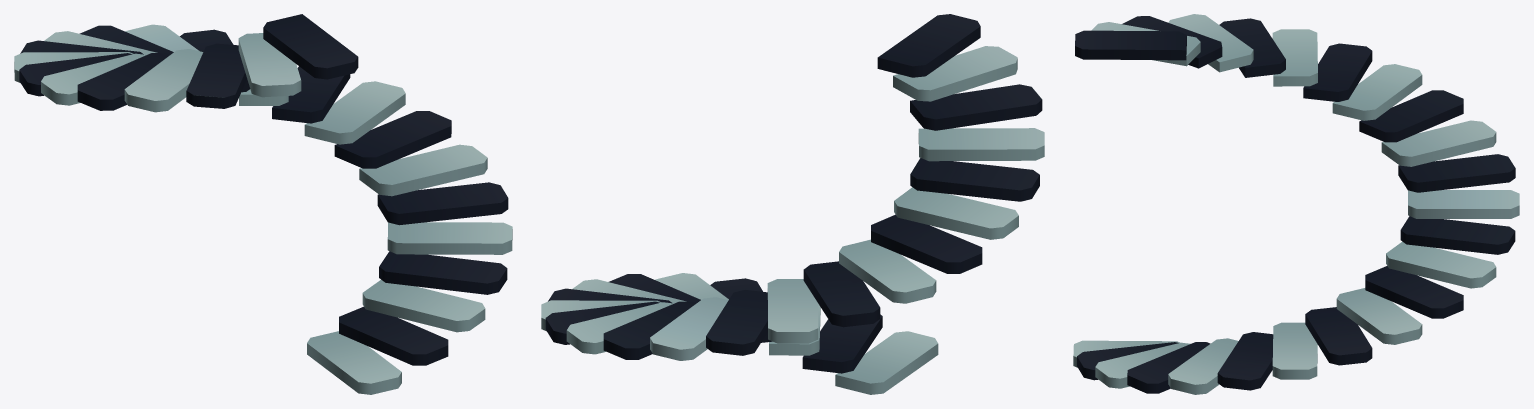
File: x_parkour_stairs_spiral.fbx
3 renders of one model, left to right at view 1: azimuth 30°, elevation 25°; view 2: azimuth 150°, elevation 25°; view 3: azimuth 270°, elevation 25°, orthographic. The views are drawn at different scales.
Visible parts, largest first — view 1: x_parkour_stairs_spiral; view 2: x_parkour_stairs_spiral; view 3: x_parkour_stairs_spiral.
Part boxes in pixels (x1,y1,x2,y2): x_parkour_stairs_spiral: (14,14,512,394); x_parkour_stairs_spiral: (541,14,1044,394); x_parkour_stairs_spiral: (1073,14,1519,394).
Size of the model in its own units: 8 by 5.97 by 8.
